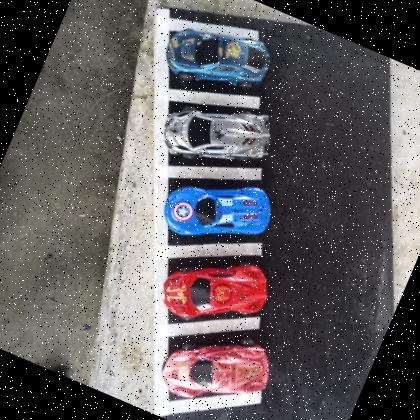Car: (154, 78, 284, 190), (154, 311, 281, 420), (152, 237, 277, 346), (156, 158, 282, 266), (157, 8, 280, 110)
